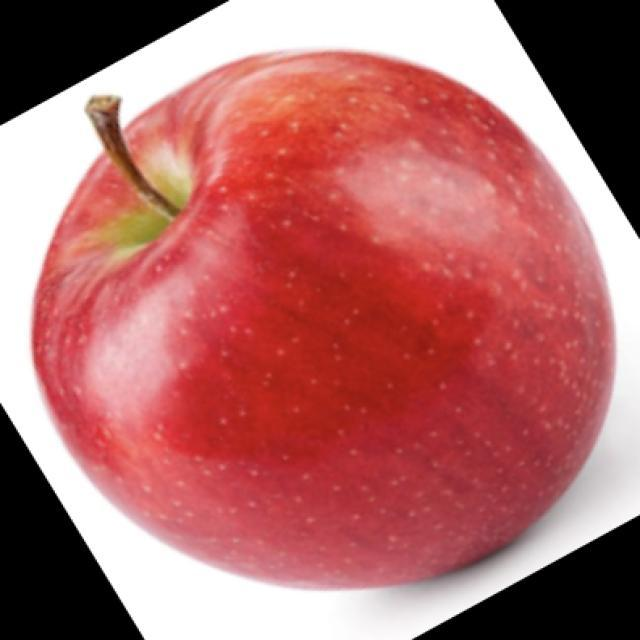Apple: (29, 46, 617, 591)
